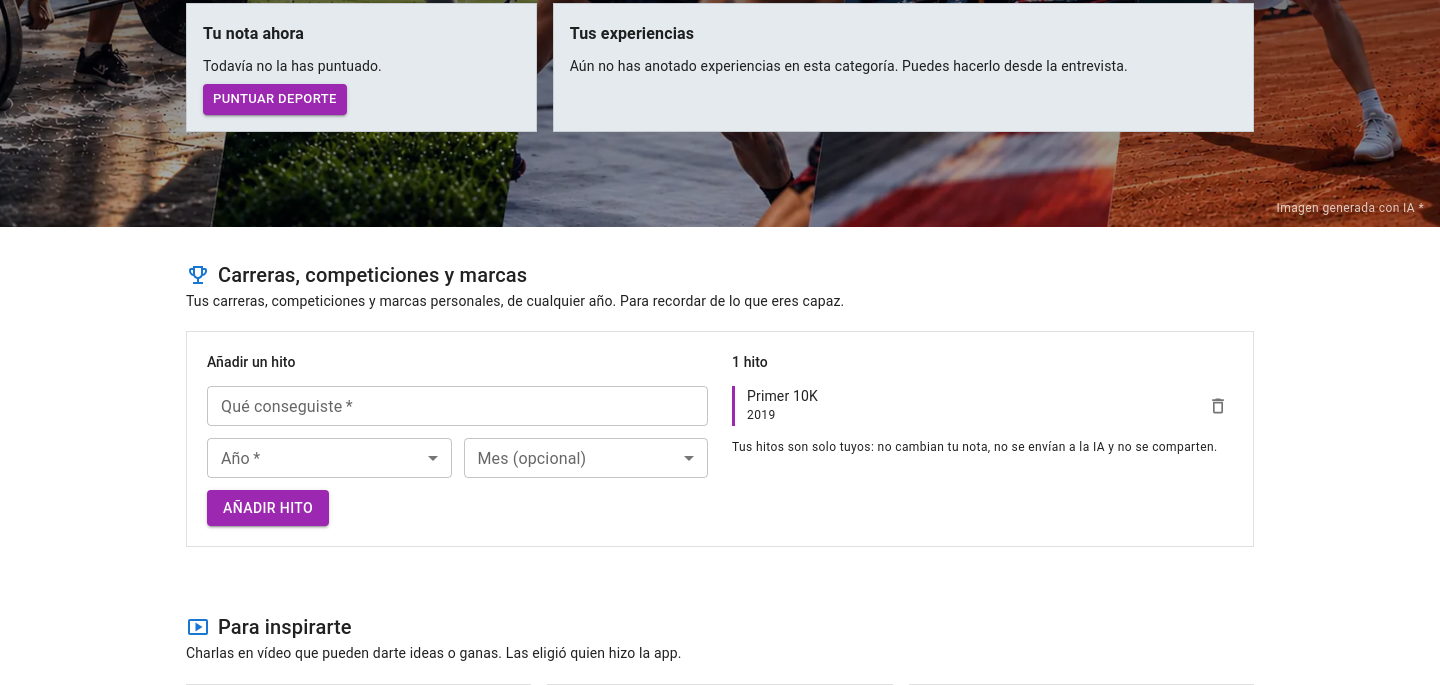
Test: CategoryPage: hitos en Aventura y Deporte (RF-49) › borra un hito
This screenshot has width=1440, height=685.
(page scrolled)
Click the button named "Borrar «Primer 10K» (2019)" at (1218, 406), box [1203,391,1233,421]
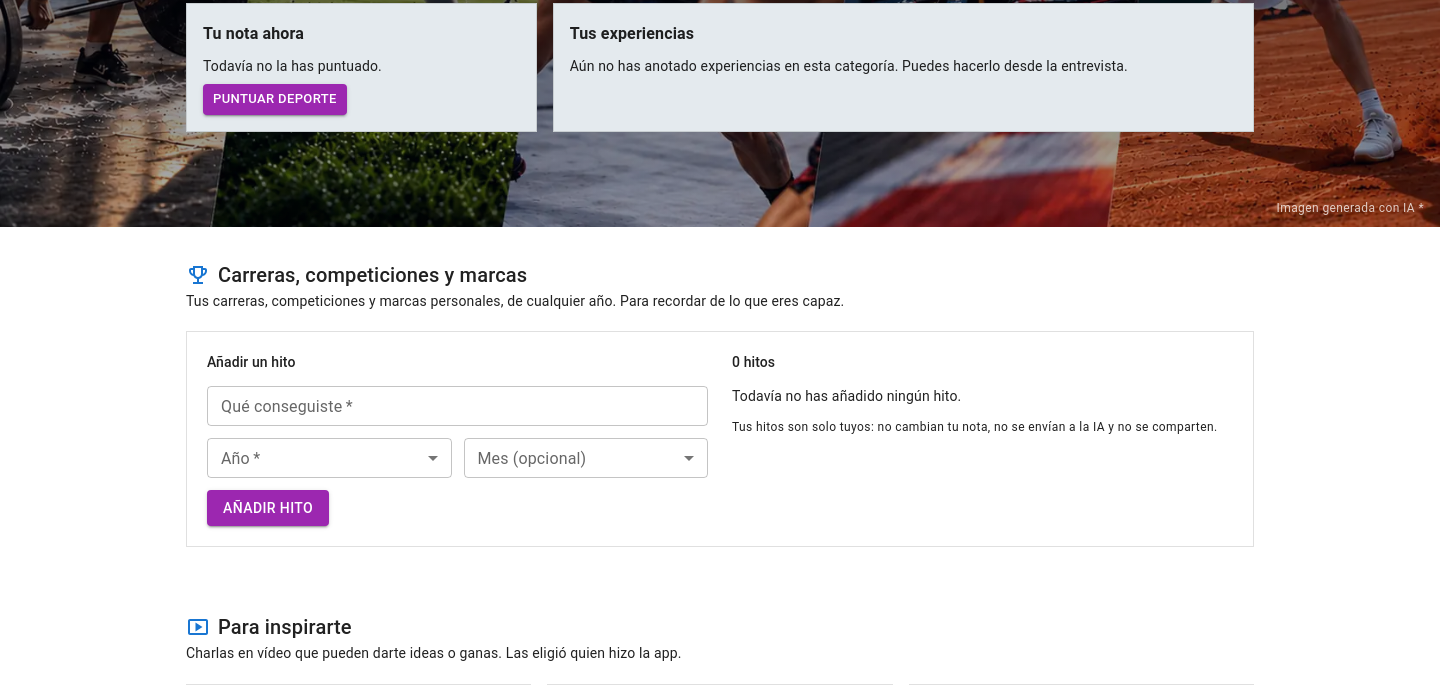
Check: the text "Todavía no has añadido ningún hito." is shown, box [732,388,961,404]
